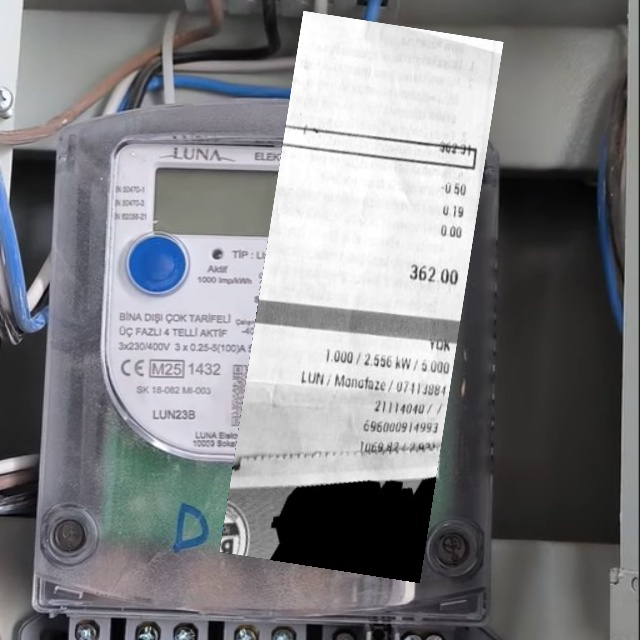electricity-bill: (219, 10, 504, 582)
